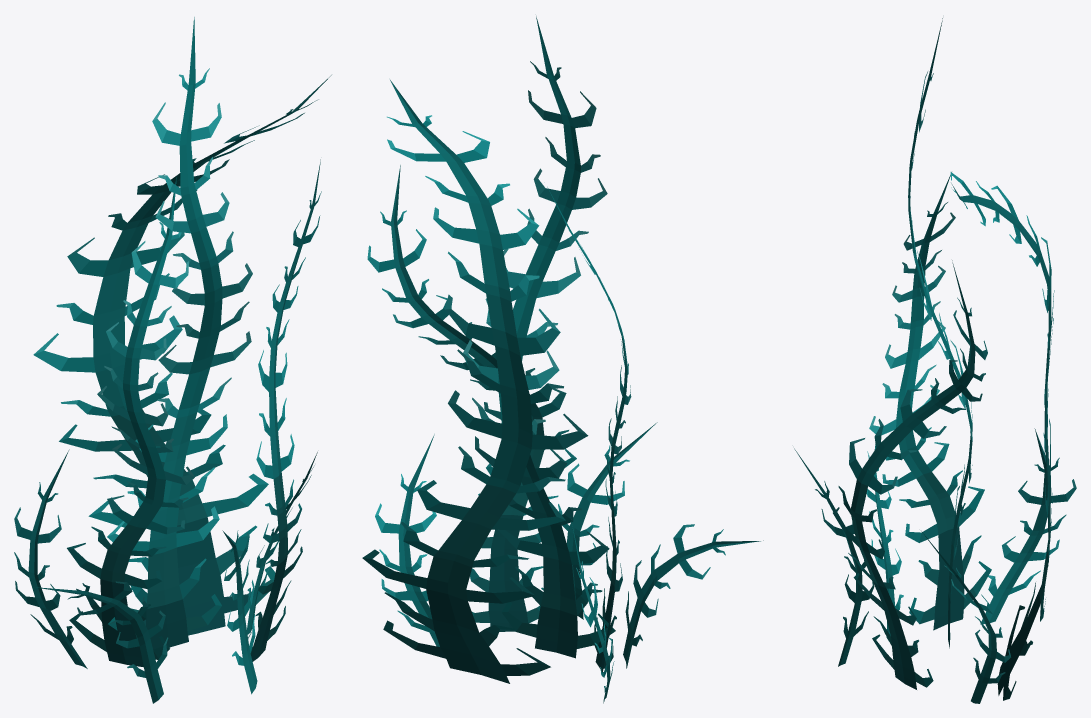
Rendered from CS_Plant_25_L3.fbx.
3 views of the same model, side by side, from view 1: azimuth 30°, elevation 25°; view 2: azimuth 150°, elevation 25°; view 3: azimuth 270°, elevation 25° (orthographic).
Visible parts, largest first — view 1: Plant_25_L3_a, Plant_25_L3_d, Plant_25_L3_b, Plant_25_L3_e, Plant_25_L3_h, Plant_25_L3_c, Plant_25_L3_f, Plant_25_L3_g; view 2: Plant_25_L3_a, Plant_25_L3_d, Plant_25_L3_e, Plant_25_L3_b, Plant_25_L3_g, Plant_25_L3_c, Plant_25_L3_f, Plant_25_L3_h; view 3: Plant_25_L3_b, Plant_25_L3_e, Plant_25_L3_a, Plant_25_L3_h, Plant_25_L3_d, Plant_25_L3_f, Plant_25_L3_g, Plant_25_L3_c.
Boxes of the visible parts, x1=… form: Plant_25_L3_a: x1=33, y1=75, x2=331, y2=635; Plant_25_L3_d: x1=107, y1=17, x2=252, y2=649; Plant_25_L3_b: x1=67, y1=177, x2=194, y2=667; Plant_25_L3_e: x1=241, y1=159, x2=321, y2=661; Plant_25_L3_h: x1=14, y1=449, x2=87, y2=668; Plant_25_L3_c: x1=33, y1=581, x2=168, y2=703; Plant_25_L3_f: x1=222, y1=530, x2=257, y2=694; Plant_25_L3_g: x1=247, y1=452, x2=317, y2=634; Plant_25_L3_a: x1=362, y1=80, x2=588, y2=683; Plant_25_L3_d: x1=463, y1=16, x2=615, y2=658; Plant_25_L3_e: x1=367, y1=165, x2=576, y2=631; Plant_25_L3_b: x1=547, y1=187, x2=631, y2=676; Plant_25_L3_g: x1=375, y1=434, x2=439, y2=646; Plant_25_L3_c: x1=623, y1=524, x2=763, y2=668; Plant_25_L3_f: x1=558, y1=422, x2=657, y2=619; Plant_25_L3_h: x1=571, y1=519, x2=614, y2=703; Plant_25_L3_b: x1=869, y1=175, x2=991, y2=630; Plant_25_L3_e: x1=833, y1=260, x2=987, y2=689; Plant_25_L3_a: x1=950, y1=172, x2=1054, y2=700; Plant_25_L3_h: x1=980, y1=428, x2=1076, y2=624; Plant_25_L3_d: x1=908, y1=18, x2=972, y2=648; Plant_25_L3_f: x1=794, y1=448, x2=874, y2=666; Plant_25_L3_g: x1=921, y1=531, x2=1010, y2=703; Plant_25_L3_c: x1=866, y1=443, x2=903, y2=640.
Bounding box in the file's own units: 0.5635 × 1.04 × 0.4029.
